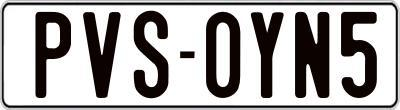0: (206, 9, 243, 99)
5: (341, 11, 381, 103)
N: (295, 9, 331, 97)
P: (32, 10, 69, 98)
S: (133, 9, 171, 99)
V: (81, 9, 125, 100)
Y: (250, 11, 285, 103)
